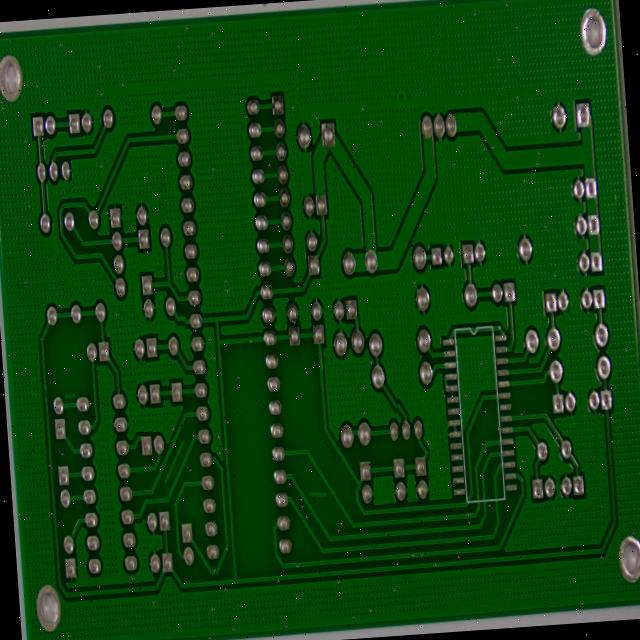spurious_copper: (153, 464, 184, 518), (303, 517, 326, 536), (54, 413, 69, 427)
